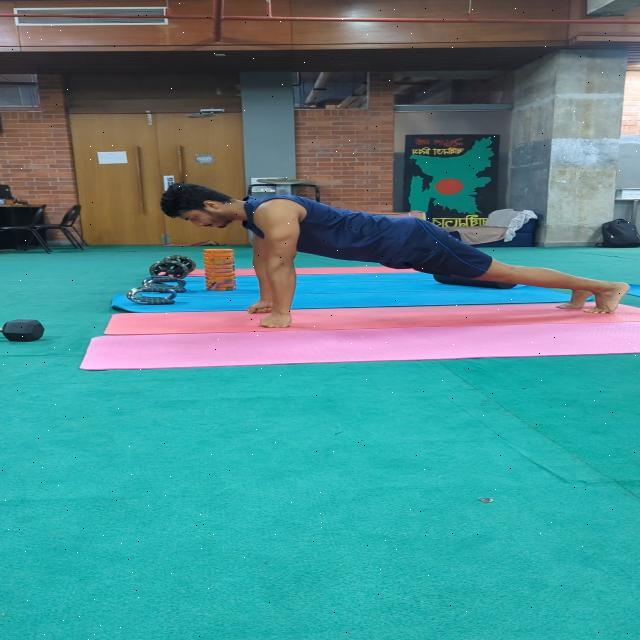Normal_PushUps: (148, 175, 628, 350)
